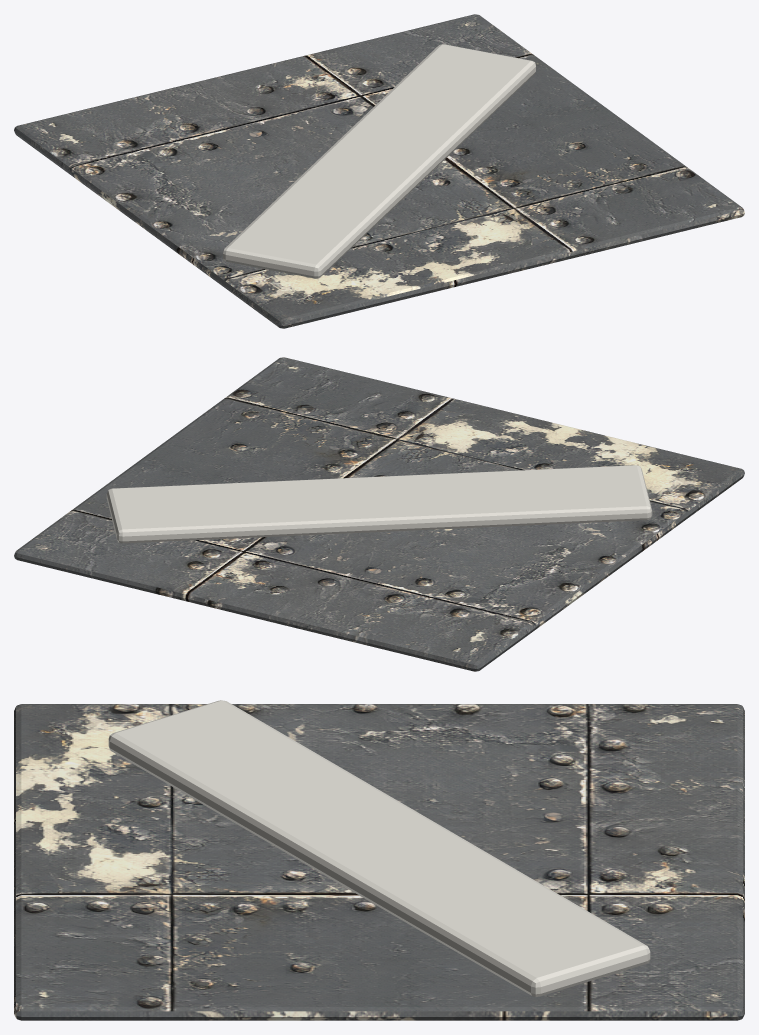
The model's file is inlay_diag.glb.
3 renders of one model, top to bottom at view 1: azimuth 30°, elevation 25°; view 2: azimuth 150°, elevation 25°; view 3: azimuth 270°, elevation 25°, orthographic. The views are drawn at different scales.
Visible parts, largest first — view 1: GEO-inlay-base, GEO-diag; view 2: GEO-inlay-base, GEO-diag; view 3: GEO-inlay-base, GEO-diag.
Boxes of the visible parts, x1,y1,x2,y2 form: GEO-inlay-base: (14, 14, 744, 328); GEO-diag: (223, 44, 535, 278); GEO-inlay-base: (14, 357, 744, 671); GEO-diag: (106, 465, 652, 543); GEO-inlay-base: (14, 704, 744, 1020); GEO-diag: (108, 700, 650, 996).
Bounding box in the file's own units: 40 × 1.8 × 40.
Materials: 2 (1 with a texture image).
